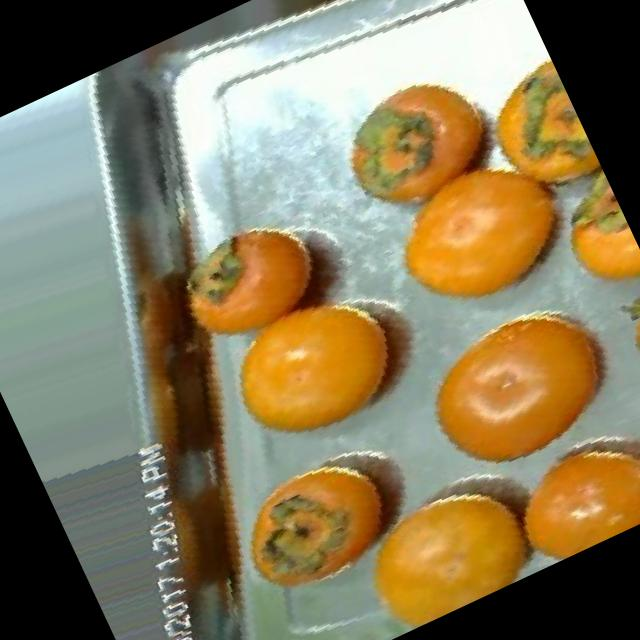Fruit: (352, 109, 622, 355), (188, 248, 457, 488), (384, 260, 640, 503), (325, 444, 565, 640), (210, 426, 438, 626), (313, 44, 526, 238), (476, 388, 640, 578), (458, 51, 606, 218)
